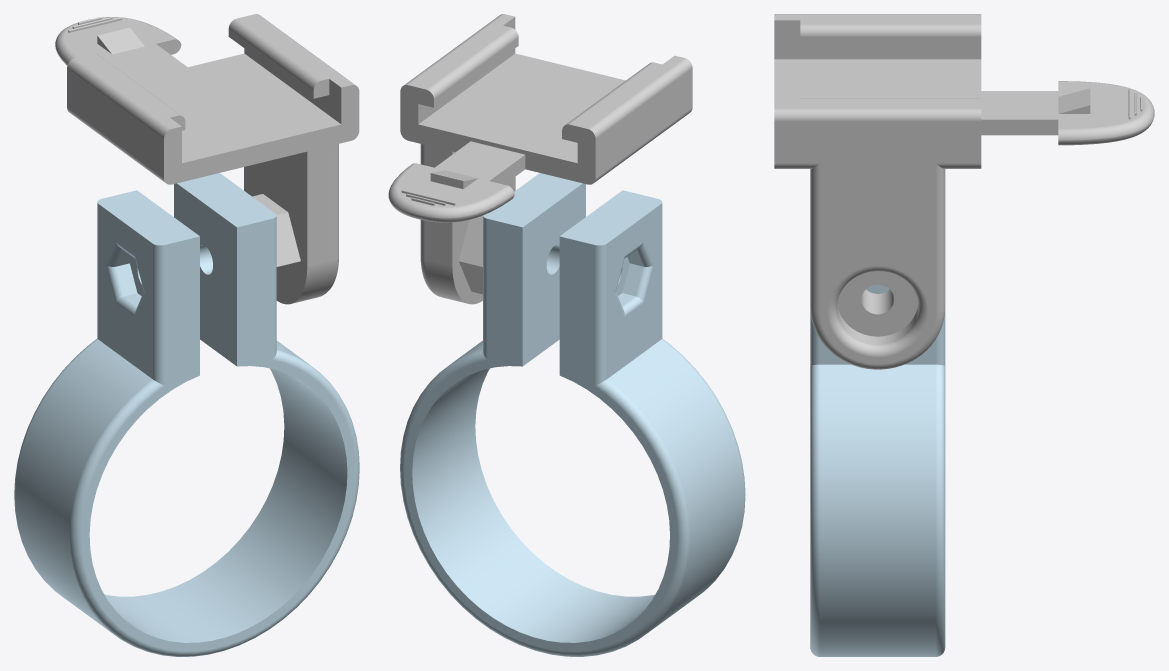
File: band.gltf
3 renders of one model, left to right at view 1: azimuth 30°, elevation 25°; view 2: azimuth 150°, elevation 25°; view 3: azimuth 270°, elevation 25°, orthographic. The views are drawn at different scales.
Parts seen in each view (by area): view 1: Part 1, Part 2; view 2: Part 1, Part 2; view 3: Part 2, Part 1.
Part boxes in pixels (x1,y1,x2,y2): Part 1: (14, 173, 359, 656); Part 2: (55, 14, 359, 304); Part 1: (400, 173, 745, 656); Part 2: (388, 14, 692, 304); Part 2: (774, 14, 1154, 369); Part 1: (810, 284, 945, 656).
Bounding box in the file's own units: 0.037 × 0.0678 × 0.0395.
